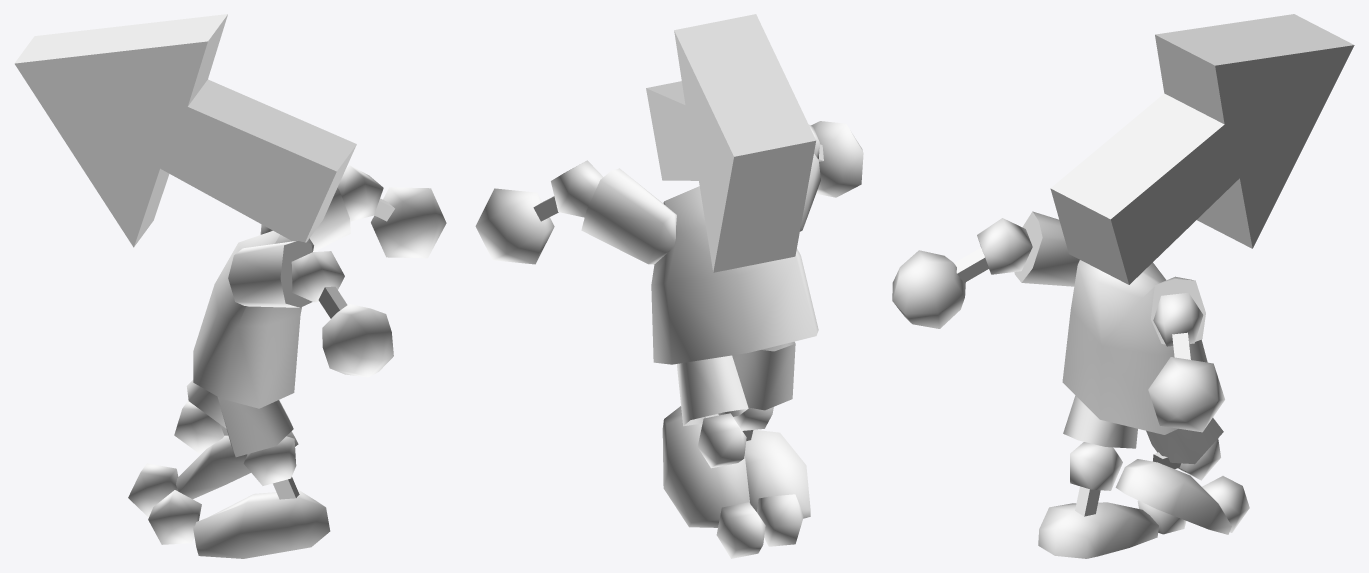
Rendered from SGR4IC_C.SGR.obj.
3 renders of one model, left to right at view 1: azimuth 30°, elevation 25°; view 2: azimuth 150°, elevation 25°; view 3: azimuth 270°, elevation 25°, orthographic. The views are drawn at different scales.
Size of the model in its own units: 3.77 by 4.76 by 3.92.
1 material, 1 textured.
